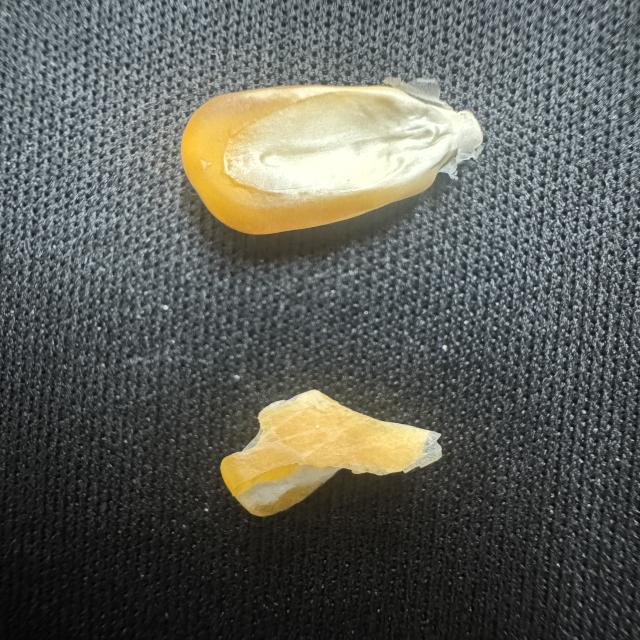Bad-Seed: (206, 384, 448, 524)
Good-Seed: (164, 76, 491, 242)
